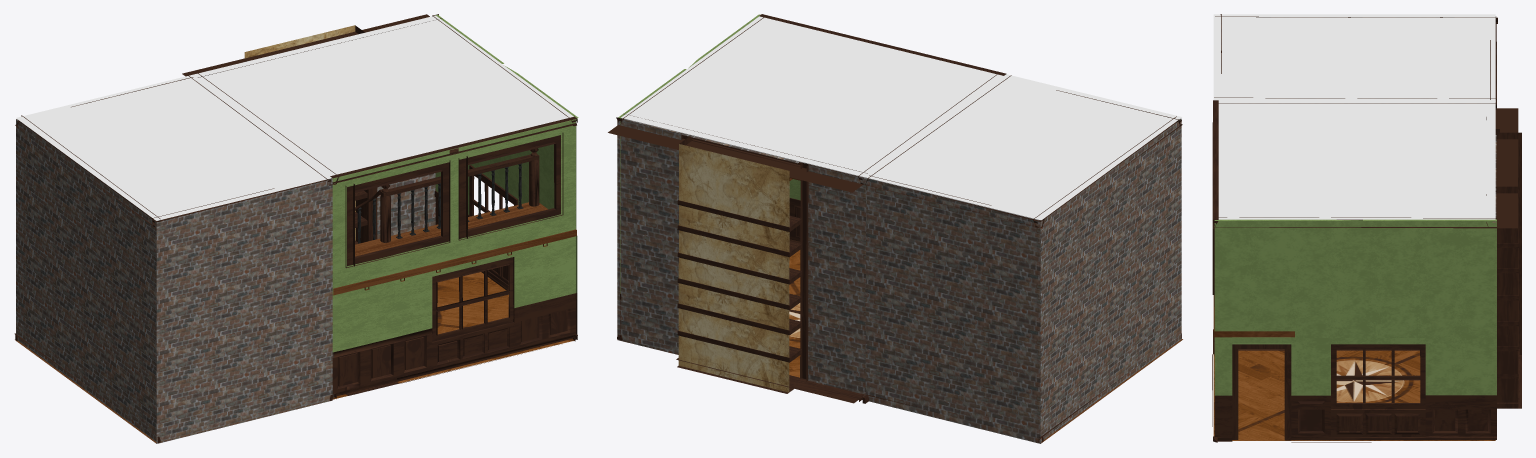
Rendered from CentralHub.gltf.
3 views of the same model, side by side, from view 1: azimuth 30°, elevation 25°; view 2: azimuth 150°, elevation 25°; view 3: azimuth 270°, elevation 25° (orthographic).
Visible parts, largest first — view 1: Wall Textures Bake.002, Baked Ceiling, Wall Textures Bake.001, Wall Textures Bake.011, Wall Textures Bake.005, Wall Textures Bake.003, Wall Textures Bake.016, Wall Textures Bake.018, Wall Textures Bake.017, Wall Textures Bake.023, Wall Textures Bake.035, Wall Textures Bake.057 (+9 smaller); view 2: Wall Textures Bake.002, Baked Ceiling, Wall Textures Bake.017, Map Shelf, Wall Textures Bake.057, Wall Textures Bake.023, Wall Textures Bake.006, Wall Textures Bake.005, Wall Textures Bake.026, Wall Textures Bake.021, Wall Textures Bake.001, Wall Textures Bake.053 (+6 smaller); view 3: Baked Ceiling, Wall Textures Bake.001, Wall Textures Bake.035, Wall Textures Bake.005, Wall Textures Bake.008, Wall Textures Bake.057, Wall Textures Bake.023, Wall Textures Bake.036, Wall Textures Bake.004, Wall Textures Bake.039, Wall Textures Bake.021, Wall Textures Bake.003.
Part boxes in pixels (x1,y1,x2,y2): Wall Textures Bake.002: (16,119,332,443); Baked Ceiling: (16,15,573,220); Wall Textures Bake.001: (332,14,578,352); Wall Textures Bake.011: (332,257,577,396); Wall Textures Bake.005: (15,272,574,442); Wall Textures Bake.003: (333,202,576,295); Wall Textures Bake.016: (345,160,450,267); Wall Textures Bake.018: (458,133,563,240); Wall Textures Bake.017: (332,173,435,398); Wall Textures Bake.023: (15,15,576,227); Wall Textures Bake.035: (434,165,576,339); Wall Textures Bake.057: (182,14,442,77); Wall Textures Bake.002: (796,118,1181,443); Baked Ceiling: (621,16,1181,220); Wall Textures Bake.017: (617,119,866,396); Map Shelf: (678,144,789,392); Wall Textures Bake.057: (608,113,867,192); Wall Textures Bake.023: (617,15,1182,227); Wall Textures Bake.006: (800,162,810,378); Wall Textures Bake.005: (789,250,1182,442); Wall Textures Bake.026: (676,358,865,403); Wall Textures Bake.021: (759,14,1006,75); Wall Textures Bake.001: (618,14,800,293); Wall Textures Bake.053: (677,199,801,231); Baked Ceiling: (1213,14,1495,219); Wall Textures Bake.001: (1214,219,1496,395); Wall Textures Bake.035: (1215,344,1496,441); Wall Textures Bake.005: (1213,350,1495,440); Wall Textures Bake.008: (1495,186,1518,408); Wall Textures Bake.057: (1486,108,1518,228); Wall Textures Bake.023: (1214,14,1497,228); Wall Textures Bake.036: (1331,410,1425,436); Wall Textures Bake.004: (1495,132,1521,408); Wall Textures Bake.039: (1214,395,1232,436); Wall Textures Bake.021: (1213,100,1218,226); Wall Textures Bake.003: (1213,295,1294,337).
Size of the model in its own units: 20.78 by 10.46 by 13.11.
Materials: 8 (7 with a texture image).
